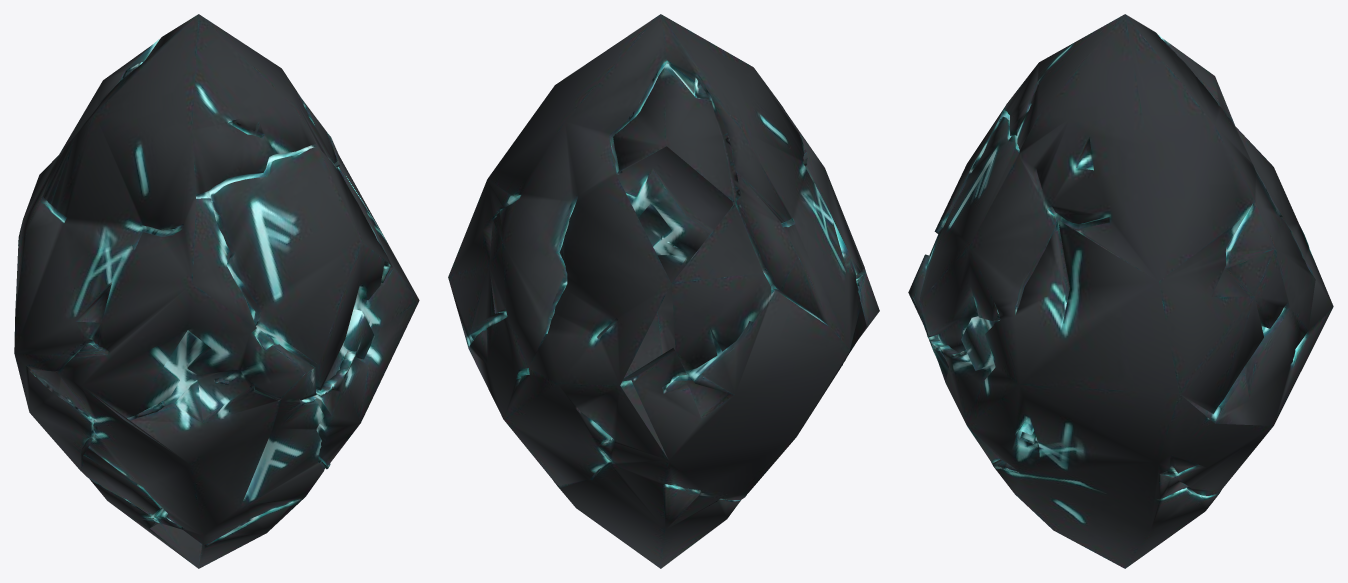
Rendered from philosophy-keystone.glb.
3 renders of one model, left to right at view 1: azimuth 30°, elevation 25°; view 2: azimuth 150°, elevation 25°; view 3: azimuth 270°, elevation 25°, orthographic.
Visible parts, largest first — view 1: Runeseam Obsidian Keystone; view 2: Runeseam Obsidian Keystone; view 3: Runeseam Obsidian Keystone.
Boxes of the visible parts, x1,y1,x2,y2 form: Runeseam Obsidian Keystone: (14,14,419,568); Runeseam Obsidian Keystone: (448,14,879,568); Runeseam Obsidian Keystone: (908,14,1333,568).
Size of the model in its own units: 0.7012 by 0.998 by 0.6934.
1 material, 1 textured.
